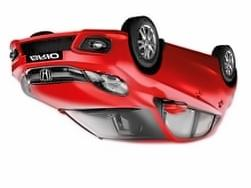Car hood: (23, 80, 145, 110)
Driver-s door - -F-R-: (157, 38, 204, 146)
Fender - -F-R-: (123, 29, 167, 112)
Front bumper: (9, 28, 134, 79)
Headlight - -L-: (20, 75, 33, 100)
Headlight - -R-: (83, 70, 128, 96)
Passenger-s door - -R-R-: (190, 37, 228, 145)
Side bumper - -R-: (159, 38, 222, 74)
Side mirror - -R-: (159, 98, 187, 115)
